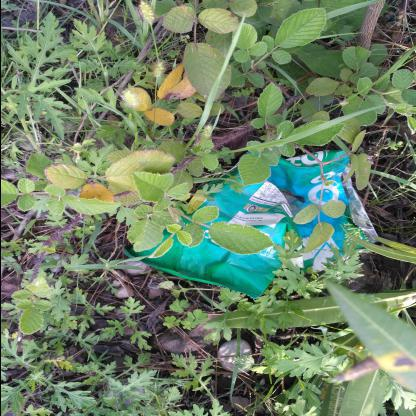plastik: (121, 152, 377, 302)
